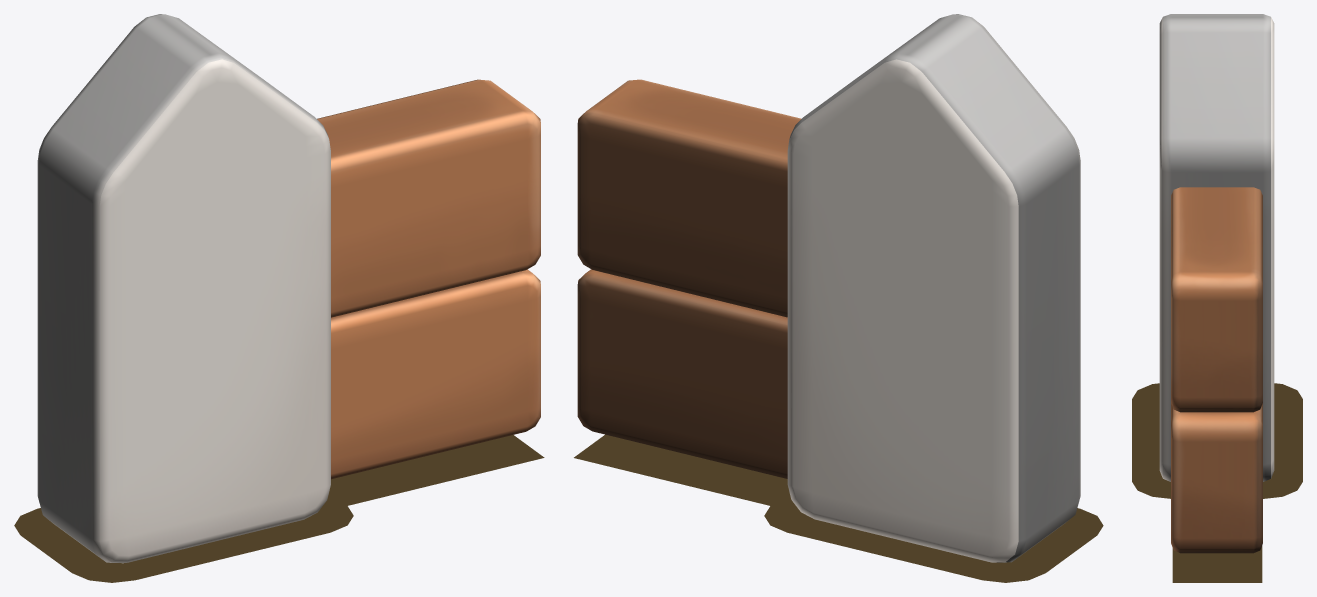
Rendered from FenceA_L.fbx.
The picture shows the model from 3 angles, left to right: view 1: azimuth 30°, elevation 25°; view 2: azimuth 150°, elevation 25°; view 3: azimuth 270°, elevation 25°; orthographic projection. The views are drawn at different scales.
Parts seen in each view (by area): view 1: FenceAL_body, FenceA_L, FenceAL_SDW; view 2: FenceAL_body, FenceA_L, FenceAL_SDW; view 3: FenceA_L, FenceAL_body, FenceAL_SDW.
Part boxes in pixels (box(x1,y1,x2,y2)): FenceAL_body: box(37, 14, 330, 563); FenceA_L: box(317, 79, 540, 479); FenceAL_SDW: box(14, 435, 544, 582); FenceAL_body: box(787, 14, 1080, 562); FenceA_L: box(577, 79, 801, 478); FenceAL_SDW: box(574, 434, 1103, 582); FenceA_L: box(1171, 187, 1262, 553); FenceAL_body: box(1159, 14, 1274, 481); FenceAL_SDW: box(1132, 383, 1302, 582).
Bounding box in the file's own units: 70.55 × 69.37 × 25.3.
Materials: 2 (1 with a texture image).
